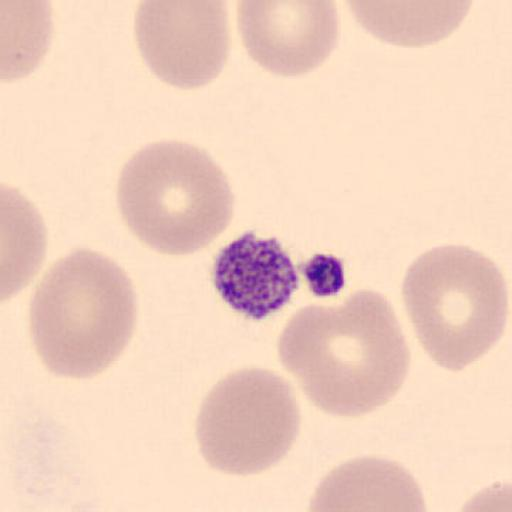Platelet: (206, 229, 304, 321), (296, 248, 350, 300)
RBC: (276, 288, 412, 420), (28, 246, 140, 382), (114, 137, 237, 258), (399, 242, 510, 372), (192, 364, 304, 478), (131, 0, 232, 90), (235, 0, 341, 79), (307, 453, 430, 512), (342, 0, 475, 49), (1, 182, 50, 303), (1, 0, 57, 85), (453, 478, 511, 512)
